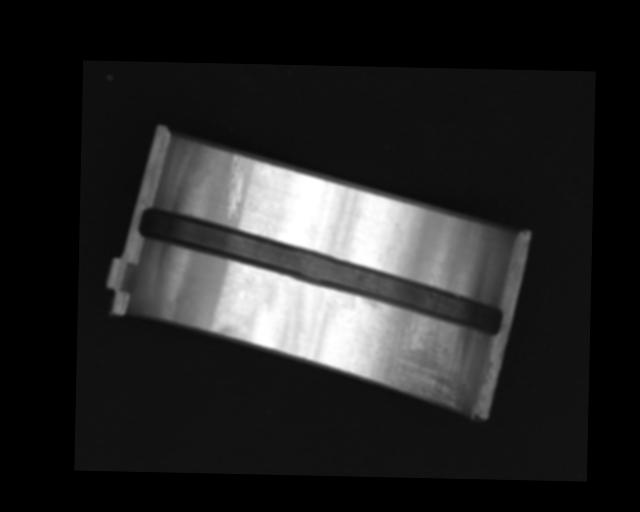gap: (136, 207, 503, 335)
nick: (225, 150, 245, 220)
scratch: (361, 298, 471, 410)
